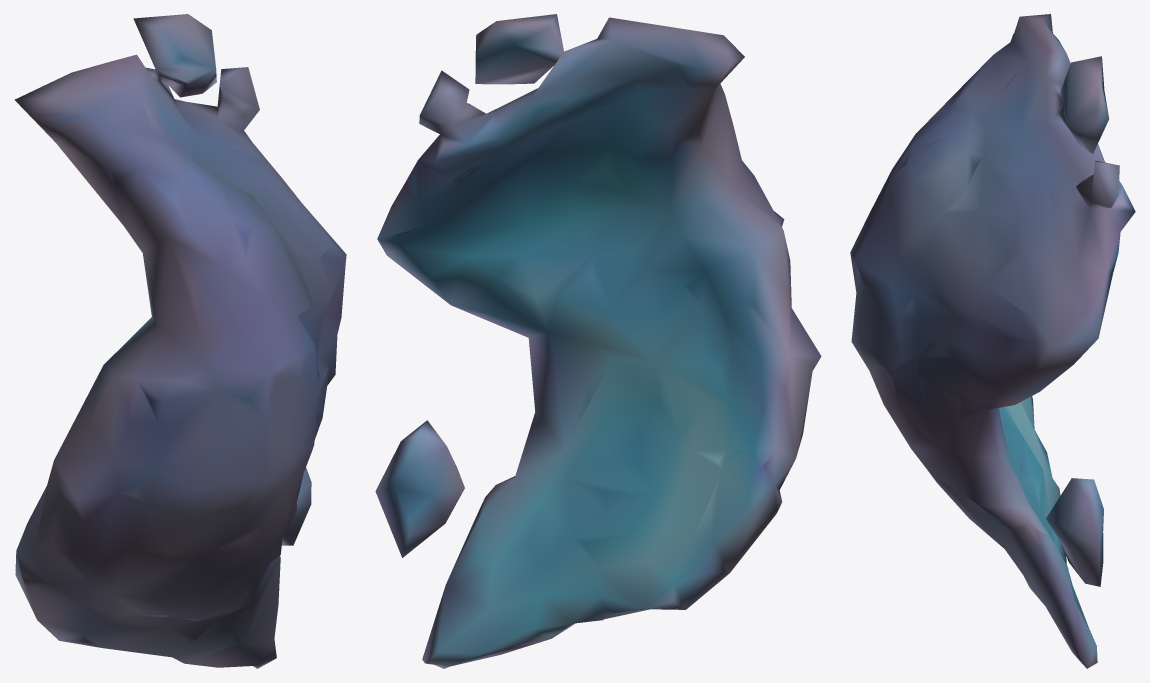
File: nota_fa_sustenido.glb
3 renders of one model, left to right at view 1: azimuth 30°, elevation 25°; view 2: azimuth 150°, elevation 25°; view 3: azimuth 270°, elevation 25°, orthographic. The views are drawn at different scales.
Bounding box in the file's own units: 0.5448 × 0.9846 × 0.4532.
